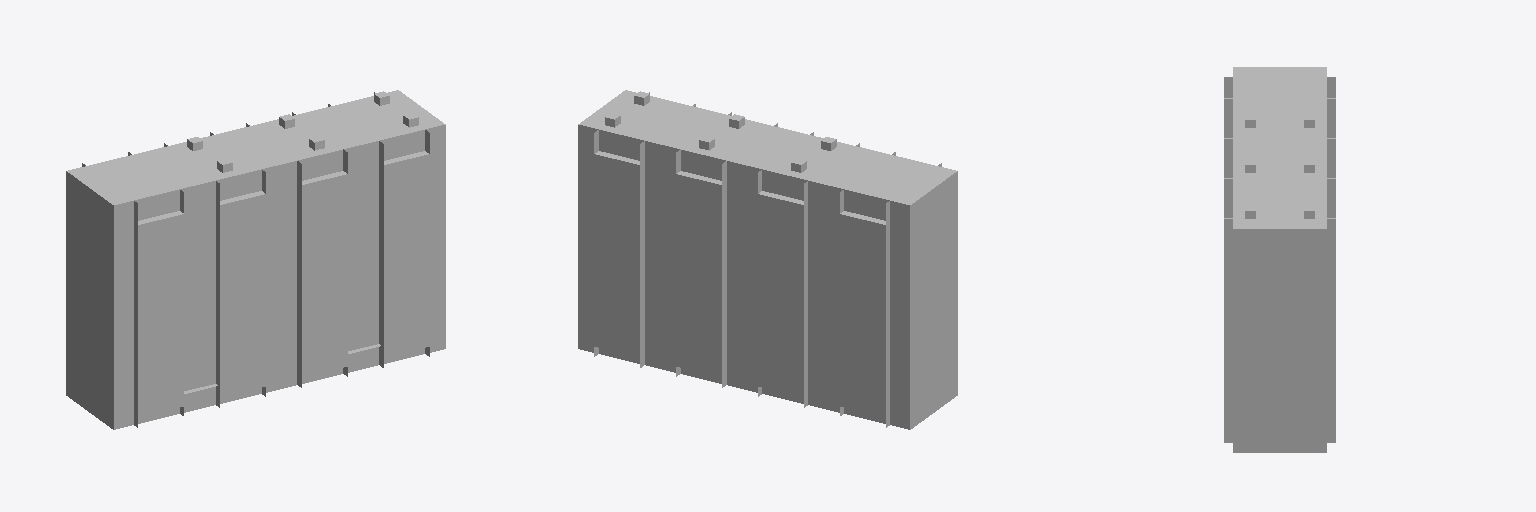
Rendered from rus_build_9et_02b_LOD1_2.obj.
3 views of the same model, side by side, from view 1: azimuth 30°, elevation 25°; view 2: azimuth 150°, elevation 25°; view 3: azimuth 270°, elevation 25° (orthographic).
Visible parts, largest first — view 1: rus_build_9et_02b_LOD1; view 2: rus_build_9et_02b_LOD1; view 3: rus_build_9et_02b_LOD1.
Boxes of the visible parts, x1,y1,x2,y2 form: rus_build_9et_02b_LOD1: [66, 90, 445, 429]; rus_build_9et_02b_LOD1: [578, 90, 957, 429]; rus_build_9et_02b_LOD1: [1224, 67, 1335, 452].
Size of the model in its own units: 130 by 87 by 38.